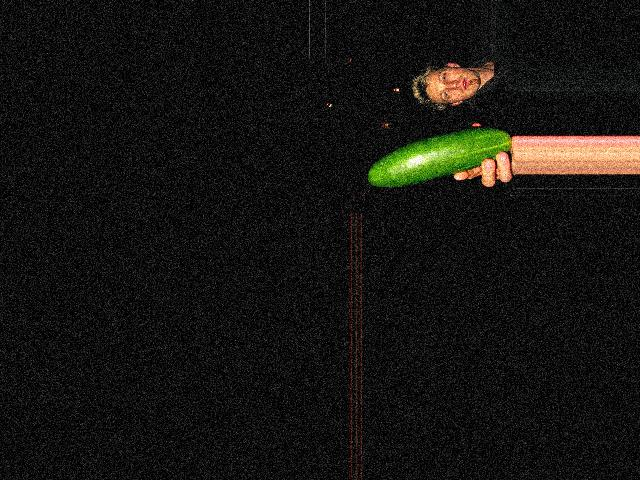cucumber: (368, 129, 510, 188)
